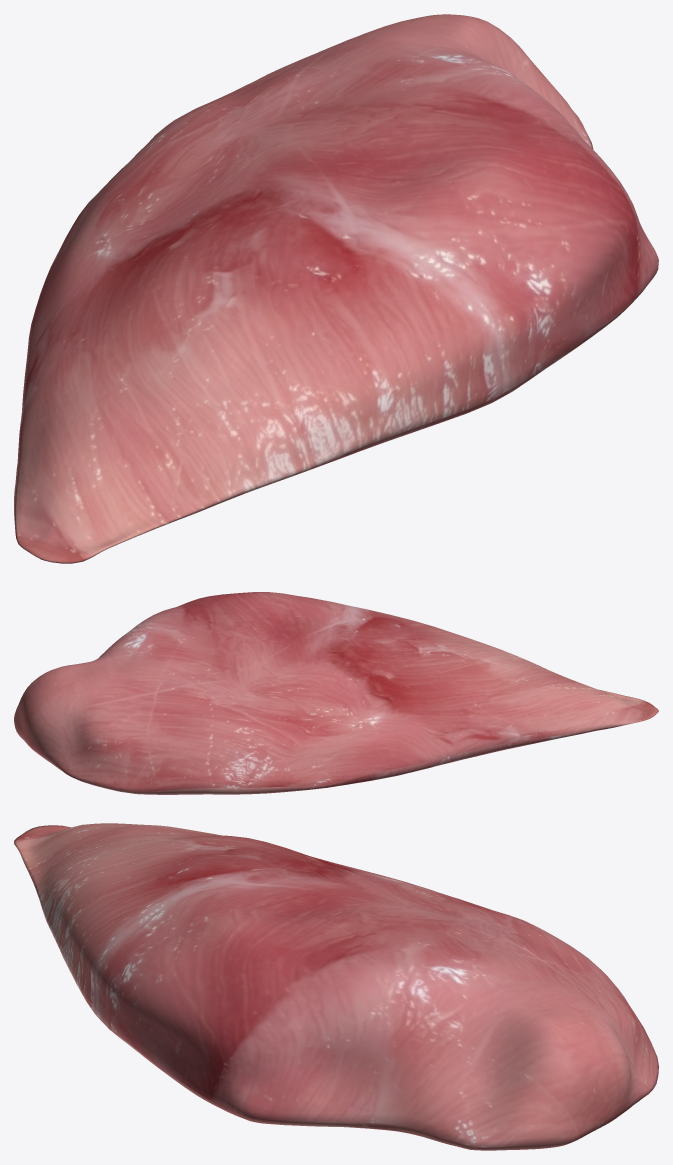
File: breast.glb
3 views of the same model, one above another, from view 1: azimuth 30°, elevation 25°; view 2: azimuth 150°, elevation 25°; view 3: azimuth 270°, elevation 25° (orthographic). The views are drawn at different scales.
Parts seen in each view (by area): view 1: _gltfNode_0; view 2: _gltfNode_0; view 3: _gltfNode_0.
Boxes of the visible parts, <box> form: _gltfNode_0: <box>14,14,658,563</box>; _gltfNode_0: <box>14,592,658,794</box>; _gltfNode_0: <box>14,823,658,1150</box>.
Size of the model in its own units: 1.31 by 0.3025 by 1.07.
Materials: 1 (1 with a texture image).
